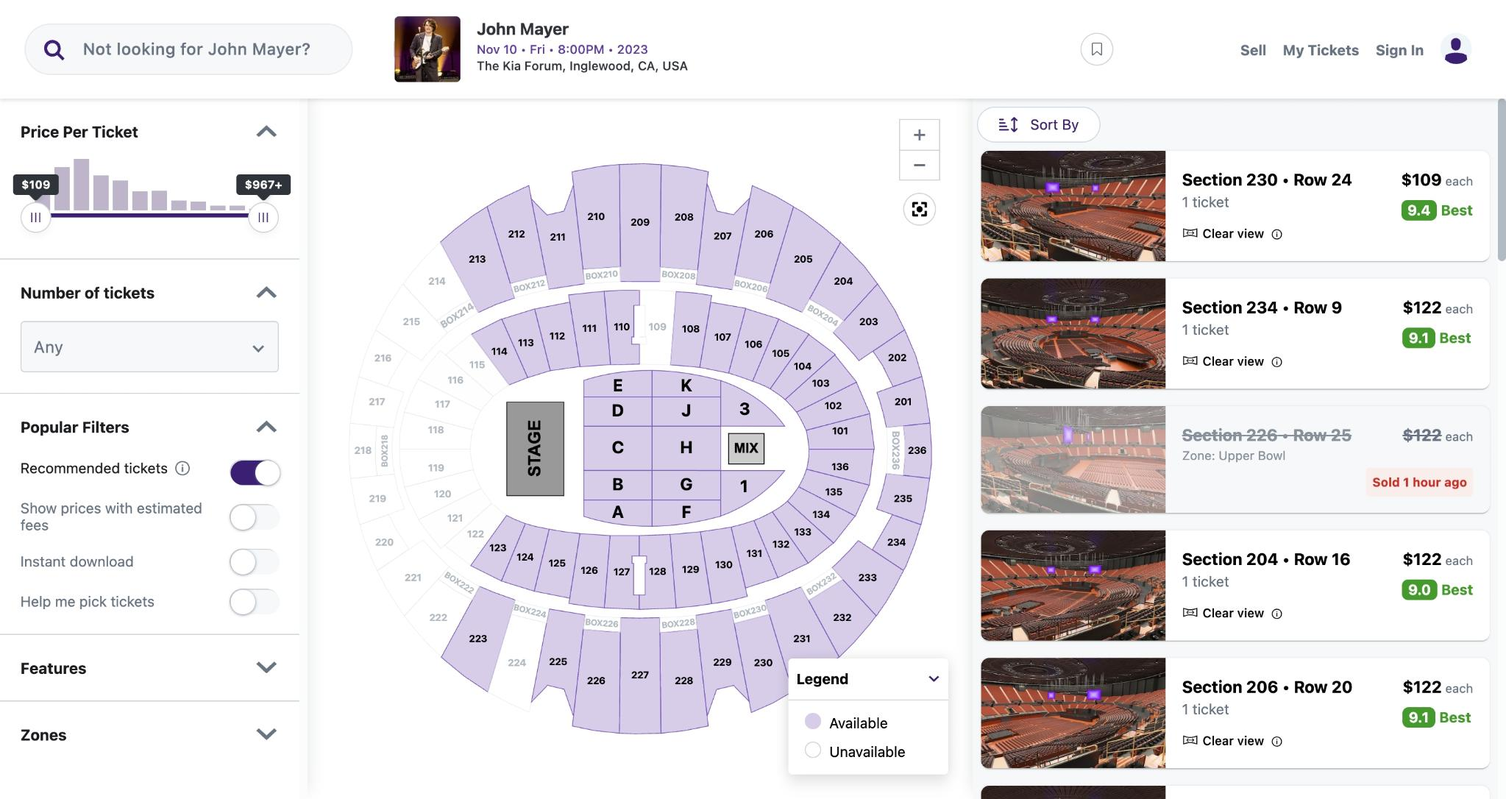webelement: (981, 150, 1489, 262), (981, 278, 1489, 390), (981, 529, 1489, 640), (981, 658, 1489, 769), (981, 405, 1489, 513), (981, 150, 1165, 260), (981, 278, 1165, 388), (981, 530, 1165, 640), (981, 658, 1165, 768), (981, 405, 1165, 511), (66, 24, 348, 73), (19, 320, 278, 371), (19, 499, 278, 533), (981, 785, 1489, 799), (788, 658, 947, 699), (19, 548, 278, 572), (19, 588, 278, 612), (476, 16, 687, 40), (977, 106, 1100, 141), (394, 16, 459, 81), (20, 458, 192, 482), (476, 58, 687, 72), (476, 42, 647, 56), (820, 741, 904, 761), (1278, 676, 1353, 695), (1278, 169, 1352, 188), (1277, 425, 1351, 444), (1182, 225, 1282, 239), (1182, 353, 1282, 367), (1182, 604, 1282, 618), (1182, 732, 1282, 746), (1278, 549, 1350, 568), (1432, 32, 1473, 65), (821, 712, 887, 732), (1278, 296, 1342, 316), (1031, 36, 1081, 61), (1282, 42, 1359, 58), (476, 58, 561, 72), (229, 459, 277, 483), (1080, 32, 1112, 65), (903, 192, 935, 224), (1030, 115, 1077, 132), (1375, 42, 1423, 58), (245, 174, 282, 194), (253, 654, 278, 679), (253, 721, 278, 746), (253, 118, 278, 142), (253, 279, 278, 303), (253, 414, 278, 438), (20, 174, 49, 194), (41, 37, 65, 61), (172, 458, 192, 482), (1240, 42, 1267, 58), (911, 127, 927, 143), (911, 156, 927, 172), (1270, 227, 1282, 241), (1270, 355, 1282, 369), (1270, 607, 1282, 621), (1270, 735, 1282, 749), (928, 672, 940, 684), (19, 212, 50, 216), (248, 212, 278, 216)
